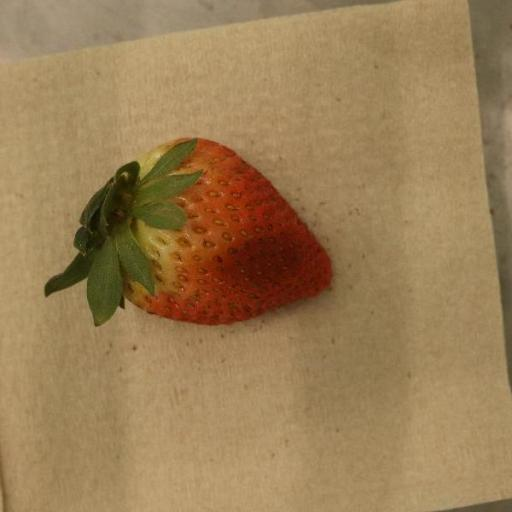Strawberry: (43, 138, 332, 329)
